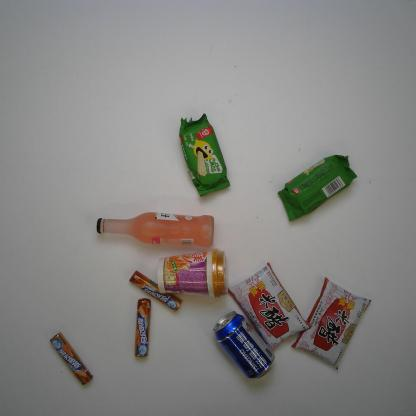Alcohol: (94, 209, 217, 250), (212, 310, 278, 381)
Candy: (48, 330, 94, 386), (128, 269, 184, 313), (134, 297, 152, 358)
Dessert: (274, 150, 362, 224), (178, 109, 234, 200)
Instant Drink: (153, 247, 230, 302)
Seasoner: (225, 261, 314, 352), (290, 276, 373, 372)
